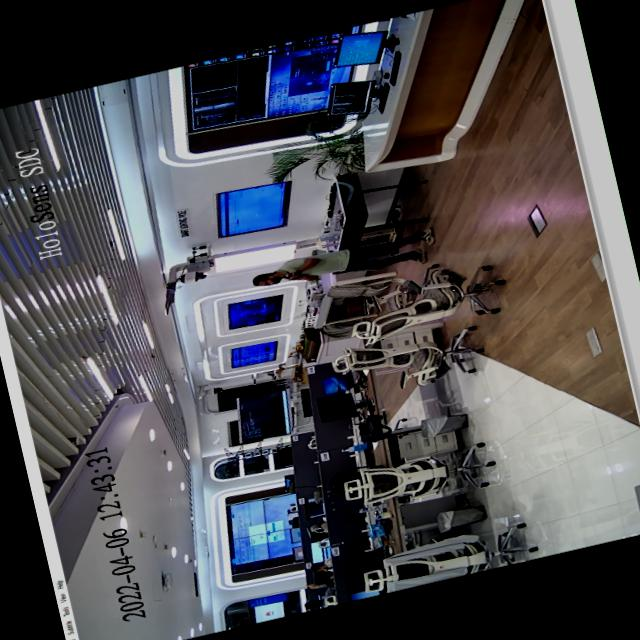long weapon: (278, 262, 324, 290)
